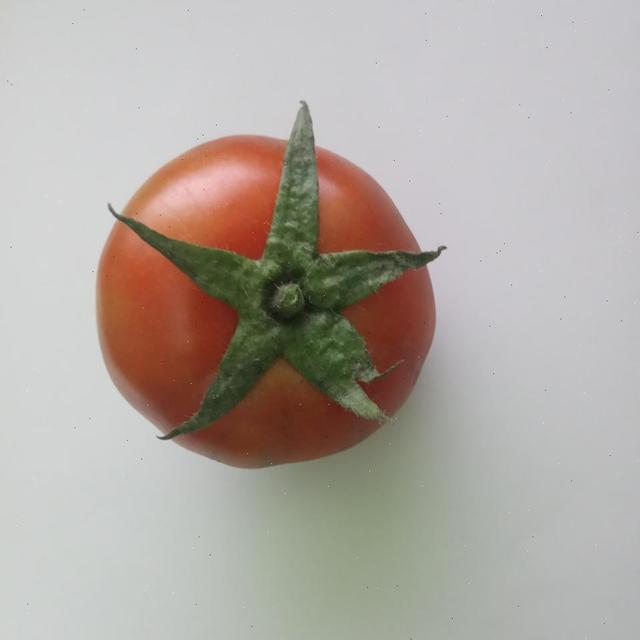Healthy Fruit: (60, 84, 296, 317)
